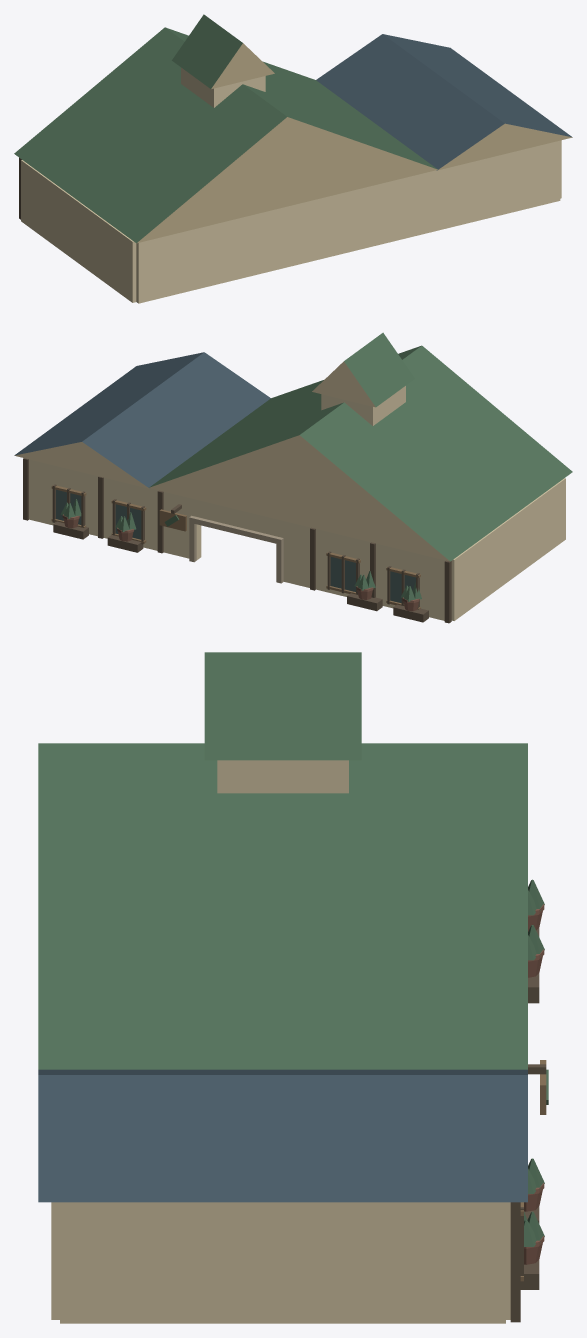
Rendered from TownEx_Herbalist_Cover.fbx.
3 views of the same model, one above another, from view 1: azimuth 30°, elevation 25°; view 2: azimuth 150°, elevation 25°; view 3: azimuth 270°, elevation 25° (orthographic). The views are drawn at different scales.
Visible parts, largest first — view 1: TownEx_Herbalist_Cover; view 2: TownEx_Herbalist_Cover; view 3: TownEx_Herbalist_Cover.
Boxes of the visible parts, x1,y1,x2,y2 form: TownEx_Herbalist_Cover: (14, 14, 572, 303); TownEx_Herbalist_Cover: (14, 332, 572, 623); TownEx_Herbalist_Cover: (38, 652, 548, 1323).
Size of the model in its own units: 16.05 by 6.98 by 8.13.
